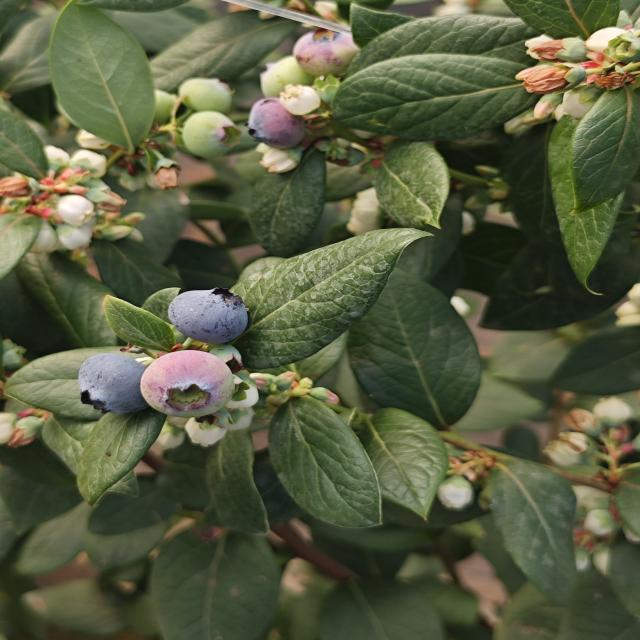ripe: (165, 286, 251, 346), (74, 351, 150, 417), (244, 96, 308, 152)
